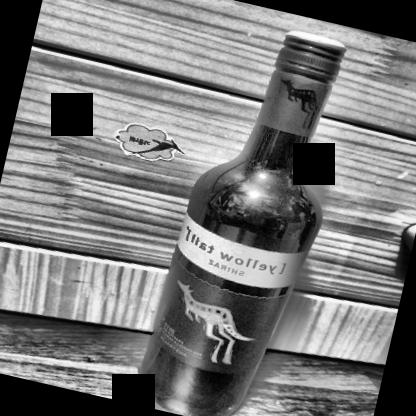yellowtail: (144, 216, 310, 384)
